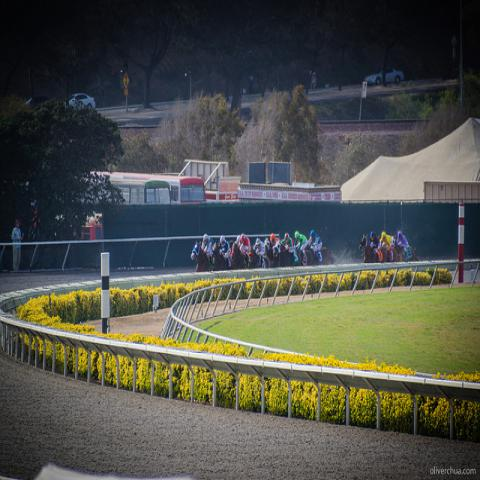bus: (90, 171, 208, 204), (110, 180, 172, 205)
car: (364, 66, 405, 86), (68, 93, 96, 111), (25, 94, 50, 107)
